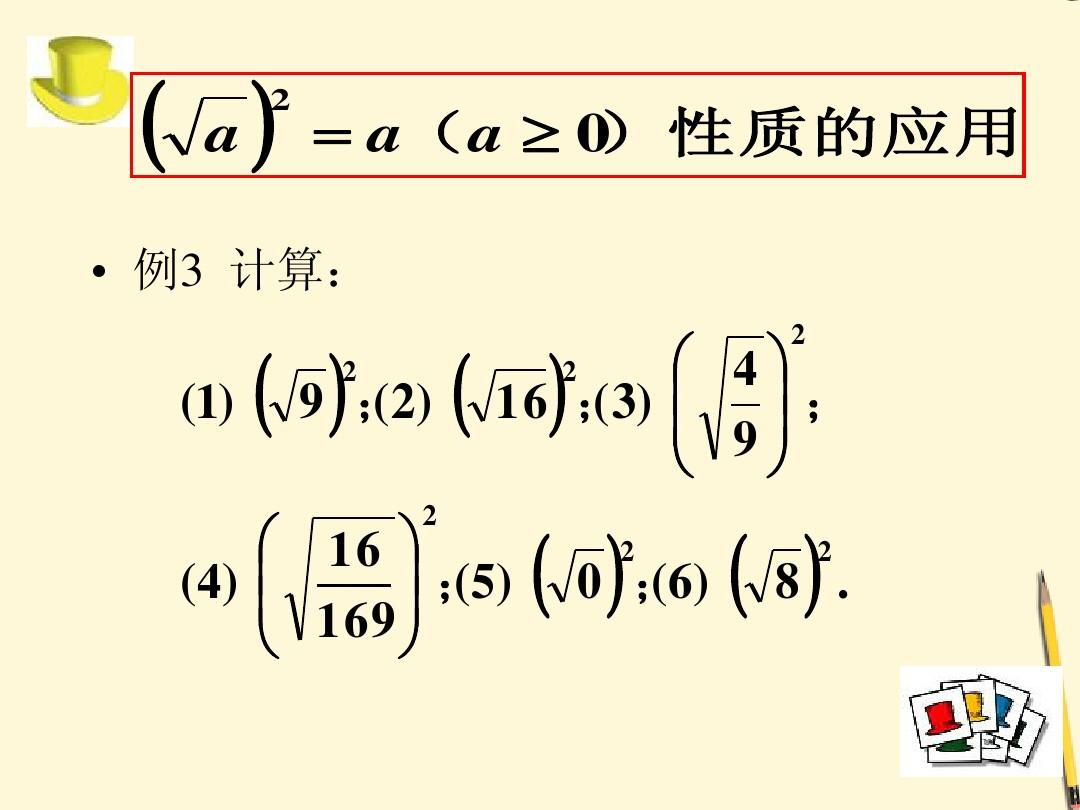division: (316, 580, 393, 595), (729, 399, 758, 412)
sqrt: (280, 515, 398, 638), (696, 330, 768, 464), (158, 87, 246, 164), (472, 359, 545, 428), (267, 364, 330, 425), (748, 543, 801, 607), (548, 547, 604, 604)
square: (787, 318, 808, 352), (420, 502, 439, 530), (616, 538, 636, 564), (562, 356, 576, 385), (341, 357, 356, 382), (819, 538, 833, 562)
